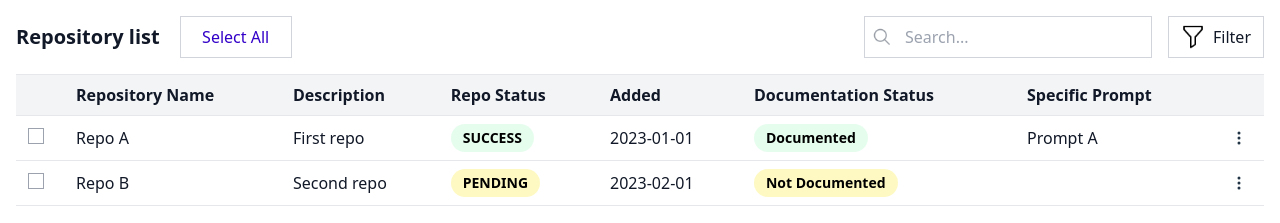
Test: AdminRepoDataTable - Integration Tests › hides Select All button when no search results
The image size is (1280, 223).
Type "NonExistentRepo" into the field with placeholder "Search..." at (1008, 37), box [864,16,1152,58]
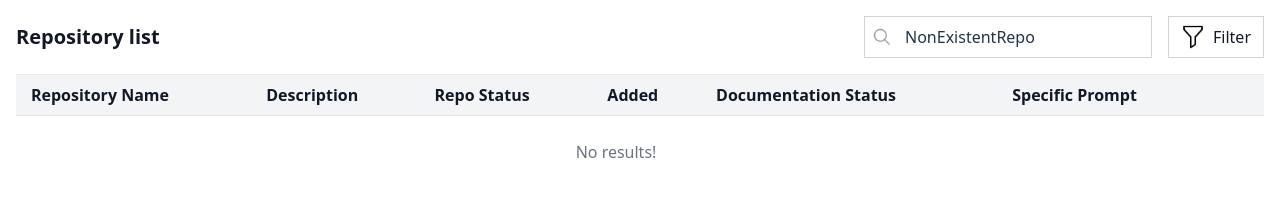
Result: the button "Select All" is gone
Result: the text "No results!" is shown at [16,116,1216,188]
